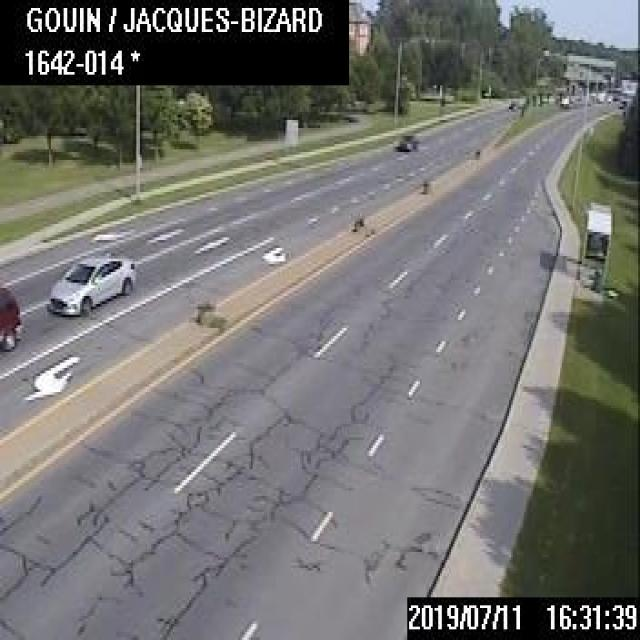vehicle: (46, 254, 134, 315), (0, 285, 20, 347), (394, 134, 414, 150), (507, 98, 516, 109)
